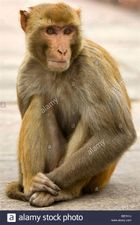monkey: (13, 4, 127, 204)
